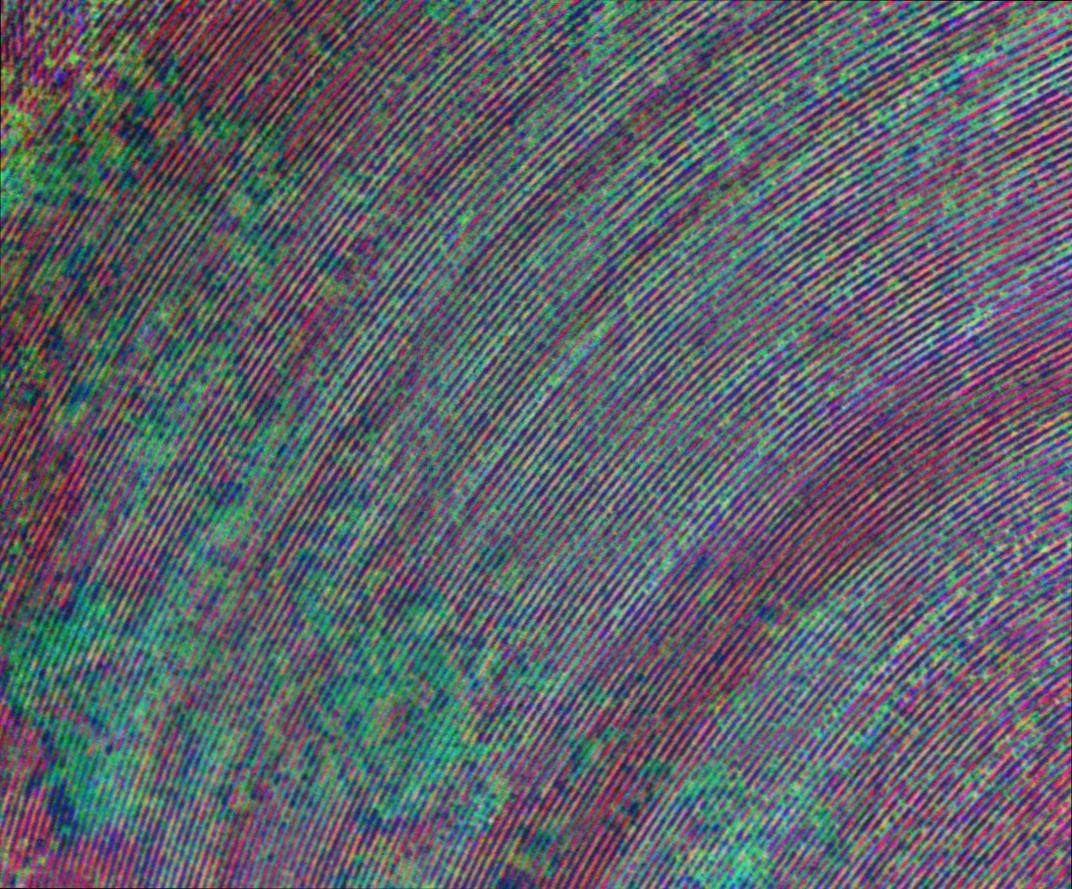dc: (762, 170, 768, 176), (16, 115, 21, 120), (697, 120, 702, 125), (222, 352, 227, 357), (459, 217, 464, 221), (751, 224, 755, 228), (407, 195, 411, 198), (579, 195, 584, 197), (161, 305, 164, 308)
